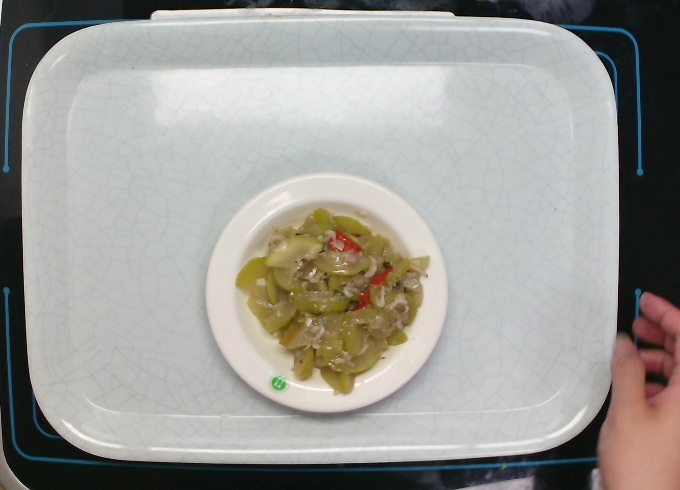WCQzf-Kuan_Bian_Yuan_Die: (199, 167, 448, 416)
